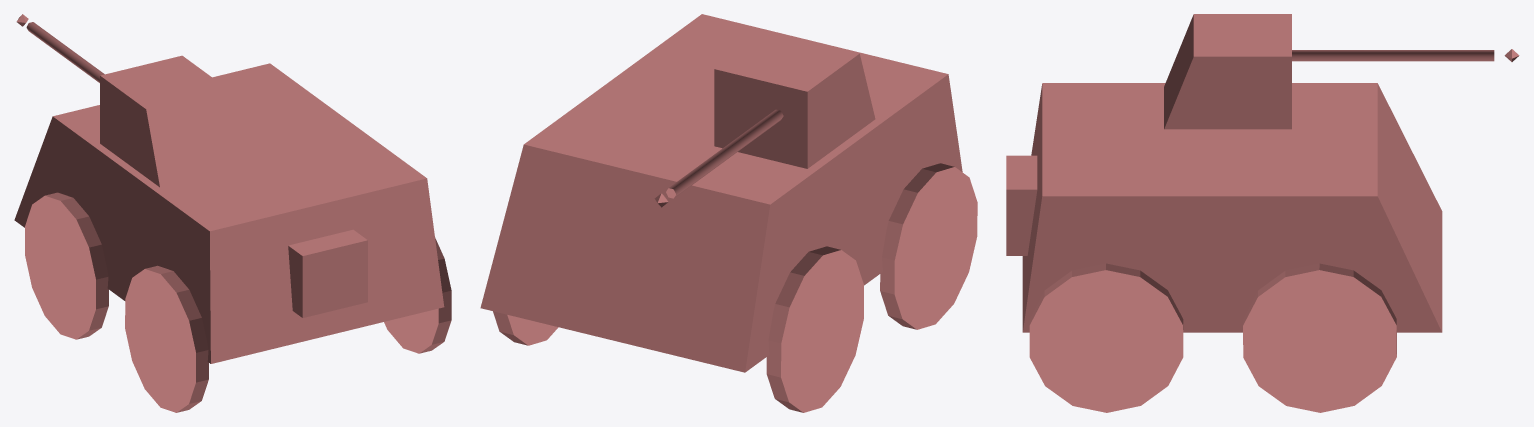
The picture shows the model from 3 angles, left to right: view 1: azimuth 30°, elevation 25°; view 2: azimuth 150°, elevation 25°; view 3: azimuth 270°, elevation 25°; orthographic projection. The views are drawn at different scales.
Parts seen in each view (by area): view 1: x3ds_Box04, x3ds_Box01, x3ds_Cylinder01, x3ds_Cylinder03, x3ds_Box02, x3ds_Cylinder05, x3ds_Cylinder02; view 2: x3ds_Box04, x3ds_Box01, x3ds_Cylinder01, x3ds_Cylinder03, x3ds_Cylinder02, x3ds_Cylinder04; view 3: x3ds_Box04, x3ds_Cylinder05, x3ds_Cylinder04, x3ds_Box01, x3ds_Box02, x3ds_Cylinder02.
Boxes of the visible parts, bbox=[...] form: x3ds_Box04: bbox=[14, 63, 444, 363]; x3ds_Box01: bbox=[100, 55, 242, 187]; x3ds_Cylinder01: bbox=[125, 265, 208, 412]; x3ds_Cylinder03: bbox=[25, 192, 108, 339]; x3ds_Box02: bbox=[288, 229, 367, 317]; x3ds_Cylinder05: bbox=[384, 237, 451, 353]; x3ds_Cylinder02: bbox=[26, 22, 104, 82]; x3ds_Box04: bbox=[480, 14, 962, 372]; x3ds_Box01: bbox=[714, 31, 875, 168]; x3ds_Cylinder01: bbox=[880, 163, 977, 329]; x3ds_Cylinder03: bbox=[766, 246, 863, 412]; x3ds_Cylinder02: bbox=[666, 109, 783, 198]; x3ds_Cylinder04: bbox=[493, 311, 558, 345]; x3ds_Box04: bbox=[1022, 83, 1442, 332]; x3ds_Cylinder05: bbox=[1029, 263, 1183, 412]; x3ds_Cylinder04: bbox=[1243, 263, 1396, 412]; x3ds_Box01: bbox=[1164, 14, 1291, 129]; x3ds_Box02: bbox=[1006, 155, 1037, 255]; x3ds_Cylinder02: bbox=[1292, 50, 1494, 61].
Bounding box in the file's own units: 28.09 × 27.42 × 45.59.
